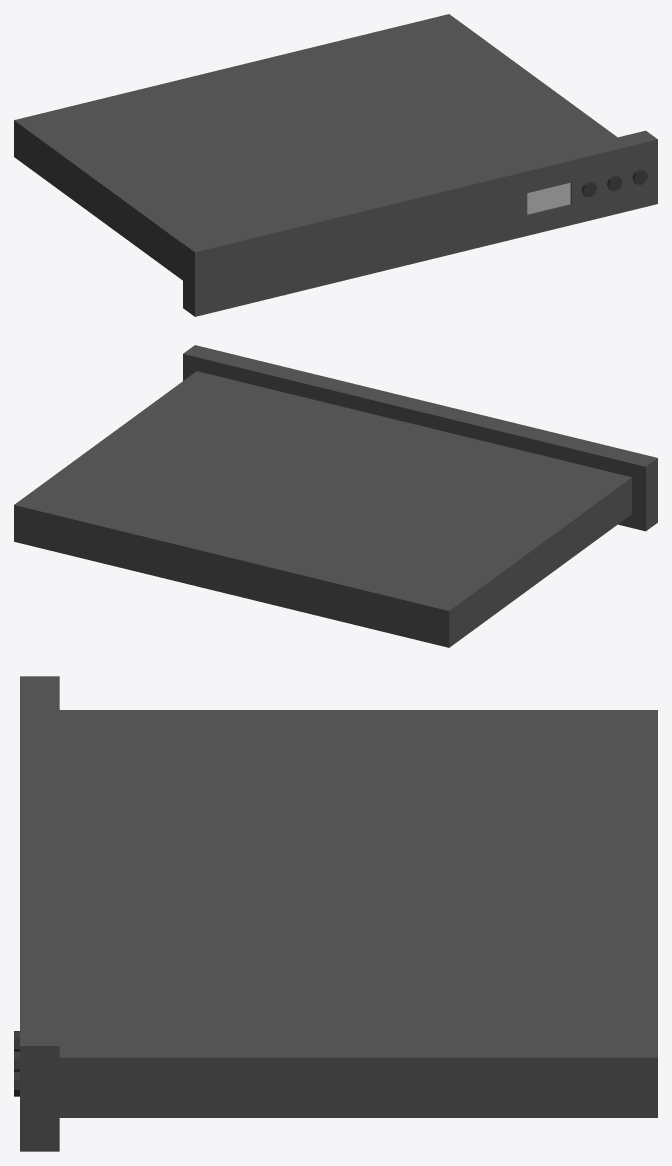
Rendered from Hood1_C1_02.fbx.
3 renders of one model, top to bottom at view 1: azimuth 30°, elevation 25°; view 2: azimuth 150°, elevation 25°; view 3: azimuth 270°, elevation 25°, orthographic. The views are drawn at different scales.
Parts seen in each view (by area): view 1: Hood1_C1_02; view 2: Hood1_C1_02; view 3: Hood1_C1_02.
Boxes of the visible parts, x1,y1,x2,y2 form: Hood1_C1_02: (14,14,657,316); Hood1_C1_02: (14,345,657,647); Hood1_C1_02: (14,676,657,1151).
Bounding box in the file's own units: 60 × 8 × 44.17.
